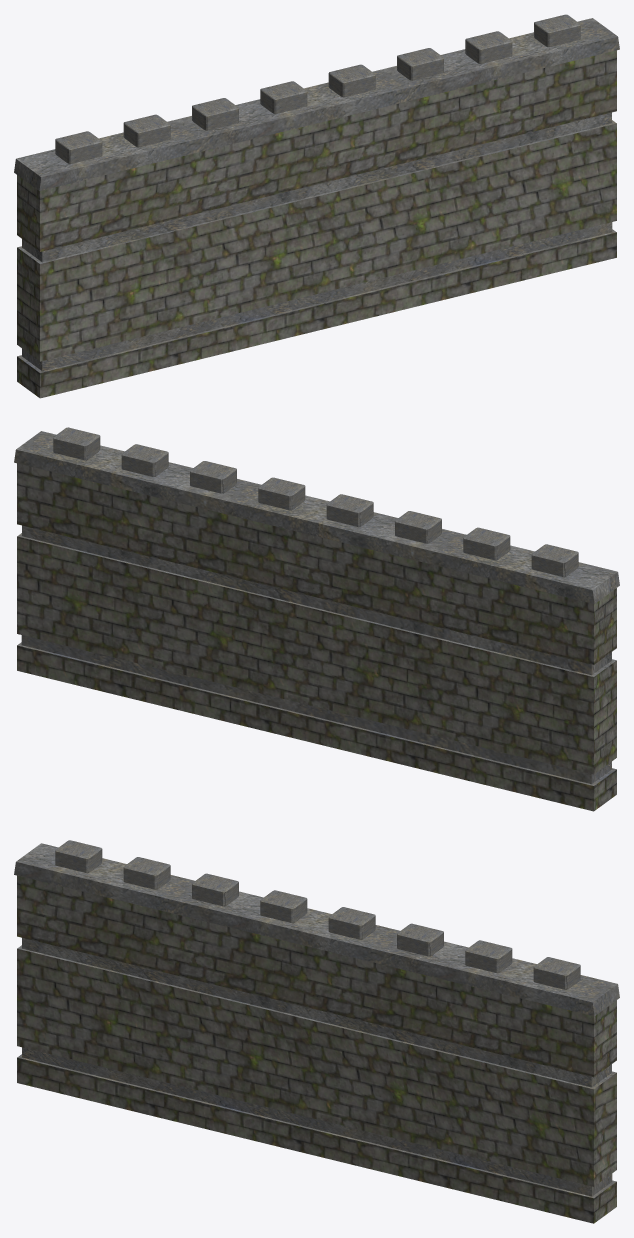
The model's file is castle-wall.glb.
3 views of the same model, one above another, from view 1: azimuth 30°, elevation 25°; view 2: azimuth 150°, elevation 25°; view 3: azimuth 330°, elevation 25° (orthographic).
Size of the model in its own units: 11.99 by 4.7 by 0.9097.
1 material, 1 textured.
